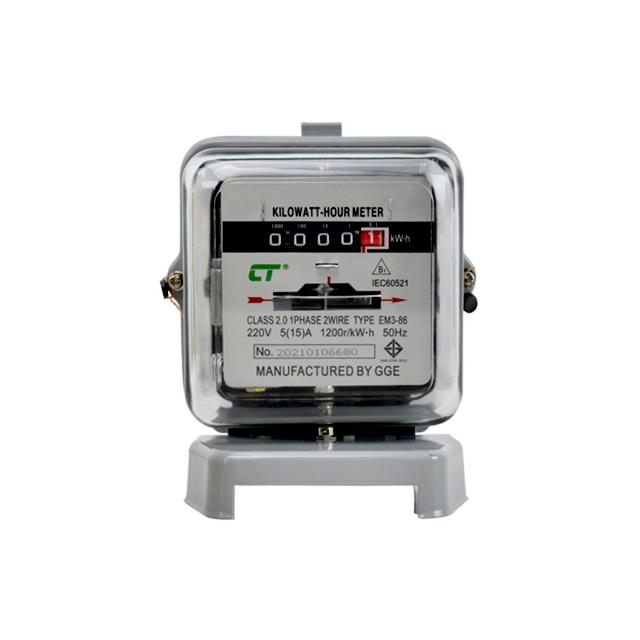digit_area: (263, 223, 389, 254)
